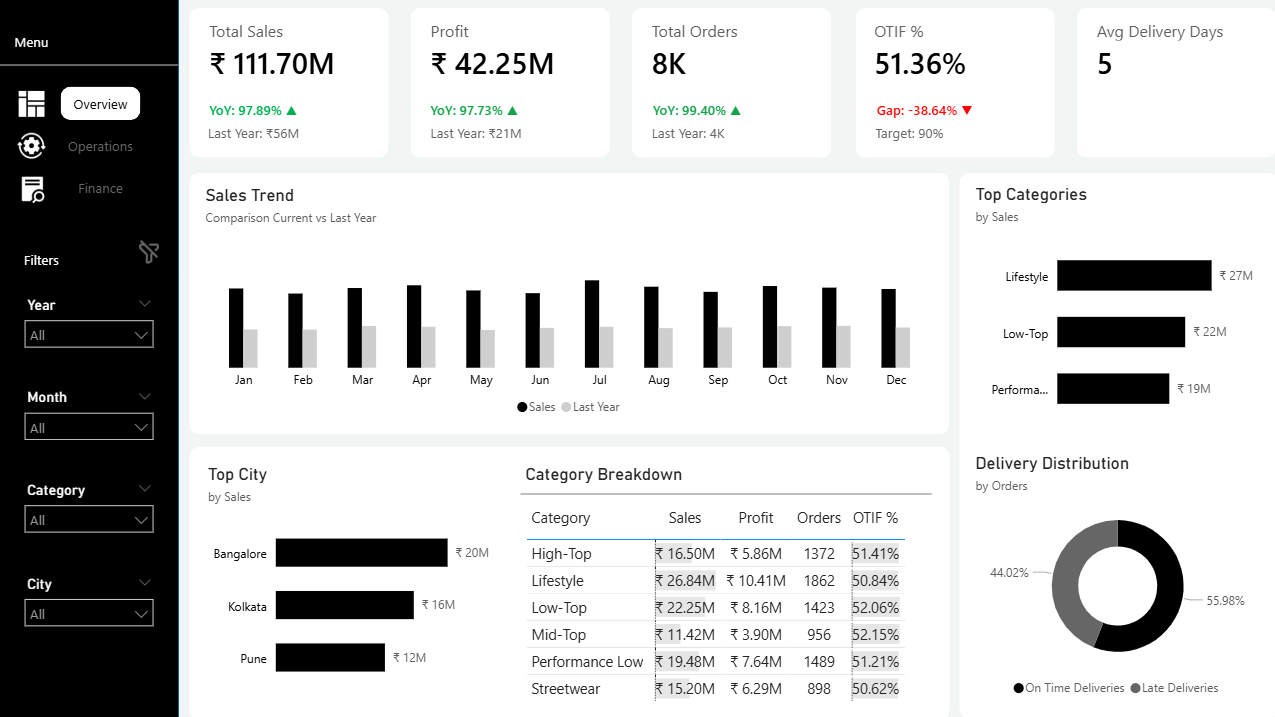

The dashboard page shown, as its layout file describes it:
{"tool":"powerbi","page":{"name":"Overview","canvas":[1280,720],"ordinal":0},"visuals":[{"type":"shape","box":[62.7,82.6,76.9,42.7],"z":0},{"type":"shape","box":[191.2,8.2,199.5,150],"z":1000,"group":"g1"},{"type":"shape","box":[7.2,236.5,51.9,29],"z":1000},{"type":"shape","box":[413,8.2,199.5,150],"z":2000,"group":"g2"},{"type":"shape","box":[62.7,125.3,76.9,42.7],"z":2000},{"type":"shape","box":[190.8,447.2,760.5,273.4],"z":2000,"group":"g7"},{"type":"shape","box":[634.8,8.2,199.5,150],"z":3000,"group":"g3"},{"type":"shape","box":[0,266.6,181,16.9],"z":3000},{"type":"shape","box":[0,0,181,720.2],"z":4000},{"type":"shape","box":[856.8,8.2,199.5,150],"z":4000,"group":"g4"},{"type":"shape","box":[1078.8,8.4,199.5,150],"z":5000,"group":"g5"},{"type":"slicer","fields":{"Values":["Calendar.Year"]},"box":[15.7,292,149.6,67.6],"z":5000},{"type":"cardVisual","fields":{"Data":["Measures Table.Total Sales"]},"box":[191.4,8.7,200,85],"z":6000,"group":"g1"},{"type":"image","box":[18.5,89.7,29.9,29.9],"z":6000},{"type":"shape","box":[961.5,173.7,318.5,546.5],"z":6000,"group":"g8"},{"type":"cardVisual","fields":{"Data":["Measures Table.Sales YoY Text"]},"box":[191.4,93.7,199,31.2],"z":7000,"group":"g1"},{"type":"slicer","fields":{"Values":["Calendar.Month"]},"box":[15.7,384.9,149.6,67.6],"z":7000},{"type":"shape","box":[210.2,124.9,160,23.8],"z":8000,"group":"g1"},{"type":"image","box":[18.5,133.9,29.9,28.5],"z":8000},{"type":"cardVisual","fields":{"Data":["Measures Table.Profit"]},"box":[412.9,8.7,200,85],"z":9000,"group":"g2"},{"type":"slicer","fields":{"Values":["Products.Category"]},"box":[15.7,477.8,149.6,67.6],"z":9000},{"type":"group","id":"g1","title":"Group 1","box":[191.2,8.2,200.2,150],"z":10000},{"type":"cardVisual","fields":{"Data":["Measures Table.Profit YoY Text"]},"box":[412.9,93.7,199,31.2],"z":10000,"group":"g2"},{"type":"shape","box":[432.9,124.9,160,23.8],"z":11000,"group":"g2"},{"type":"slicer","fields":{"Values":["Customers.City"]},"box":[15.7,570.6,149.6,67.6],"z":11000},{"type":"group","id":"g2","title":"Group 2","box":[412.9,8.2,200,150],"z":12000},{"type":"cardVisual","fields":{"Data":["Measures Table.Total Orders"]},"box":[634.4,8.7,200,85],"z":12000,"group":"g3"},{"type":"cardVisual","fields":{"Data":["Measures Table.OTIF %"]},"box":[856.1,8.7,200,85],"z":13000,"group":"g4"},{"type":"clusteredBarChart","title":"Top Categories ","fields":{"Category":["Products.Category"],"Y":["Measures Table.Total Sales"]},"box":[972.6,185.1,294.8,250.6],"z":13000,"group":"g8"},{"type":"image","box":[136.3,241.3,29,26.5],"z":13000},{"type":"group","id":"g3","title":"Group 3","box":[634.4,8.2,200.2,150],"z":14000},{"type":"cardVisual","fields":{"Data":["Measures Table.Avg Delivery Days"]},"box":[1079,8.9,200,85],"z":14000,"group":"g5"},{"type":"clusteredBarChart","title":"Top City ","fields":{"Y":["Measures Table.Total Sales"],"Category":["Customers.City"]},"box":[204.1,465.3,295.6,236.5],"z":14000,"group":"g7"},{"type":"group","id":"g4","title":"Group 4","box":[856.1,8.2,201.2,150],"z":15000},{"type":"cardVisual","fields":{"Data":["Measures Table.Orders YoY Text"]},"box":[635.6,93.7,199,31.2],"z":15000,"group":"g3"},{"type":"tableEx","title":"Category Breakdown","fields":{"Values":["Products.Category","Measures Table.Total Sales","Measures Table.Profit","Measures Table.Total Orders","Measures Table.OTIF %"]},"box":[521.6,465.1,411.4,247.3],"z":15000,"group":"g7"},{"type":"group","id":"g5","title":"Group 5","box":[1078.8,8.4,200.2,150],"z":16000},{"type":"shape","box":[654.4,124.9,160,23.8],"z":16000,"group":"g3"},{"type":"donutChart","title":"Delivery Distribution","fields":{"Y":["Measures Table.On Time Deliveries","Measures Table.Late Deliveries"]},"box":[972.6,454.3,294.8,253.5],"z":16000,"group":"g8"},{"type":"shape","box":[877.3,124.9,160,23.8],"z":17000,"group":"g4"},{"type":"group","id":"g6","title":"Group 6","box":[191.8,173.5,760.1,261.8],"z":17000},{"type":"shape","box":[0,57,180.9,17.1],"z":18000},{"type":"cardVisual","fields":{"Data":["Measures Table.OTIF Gap Text"]},"box":[858.6,93.7,198.8,31.2],"z":18000,"group":"g4"},{"type":"shape","box":[191.8,173.5,760.1,261.8],"z":19000,"group":"g6"},{"type":"image","box":[19.9,176.6,28.5,28.5],"z":19000},{"type":"actionButton","box":[62.7,88.1,80,33.8],"z":20000},{"type":"clusteredColumnChart","title":"Sales Trend","fields":{"Category":["Calendar.Month"],"Y":["Measures Table.Total Sales","Measures Table.Sales LY"]},"box":[202.7,185.6,739.5,240.1],"z":20000,"group":"g6"},{"type":"actionButton","box":[62.7,130.3,80,33.8],"z":21000},{"type":"actionButton","box":[62.7,171.3,80,33.8],"z":22000},{"type":"shape","box":[7.2,27.7,51.9,29],"z":23000},{"type":"group","id":"g7","title":"Group 8","box":[190.8,447.2,760.5,273.4],"z":24000},{"type":"group","id":"g8","title":"Group 9","box":[961.5,173.7,318.5,546.5],"z":25000},{"type":"shape","box":[17.2,246.5,51.9,29],"z":26000}]}

Visuals, with their boxes on the page's 1280x720 design canvas (x1, y1, x2, y2). These are canvas units, not pixel positions in the 1275x717 screenshot, which may show the page scaled, cropped or inside an application window:
shape: BBox(63, 83, 140, 125)
shape: BBox(191, 8, 391, 158)
shape: BBox(7, 236, 59, 266)
shape: BBox(413, 8, 612, 158)
shape: BBox(63, 125, 140, 168)
shape: BBox(191, 447, 951, 721)
shape: BBox(635, 8, 834, 158)
shape: BBox(0, 267, 181, 284)
shape: BBox(0, 0, 181, 720)
shape: BBox(857, 8, 1056, 158)
shape: BBox(1079, 8, 1278, 158)
slicer - Calendar.Year: BBox(16, 292, 165, 360)
cardVisual - Measures Table.Total Sales: BBox(191, 9, 391, 94)
image: BBox(18, 90, 48, 120)
shape: BBox(962, 174, 1280, 720)
cardVisual - Measures Table.Sales YoY Text: BBox(191, 94, 390, 125)
slicer - Calendar.Month: BBox(16, 385, 165, 452)
shape: BBox(210, 125, 370, 149)
image: BBox(18, 134, 48, 162)
cardVisual - Measures Table.Profit: BBox(413, 9, 613, 94)
slicer - Products.Category: BBox(16, 478, 165, 545)
"Group 1" group: BBox(191, 8, 391, 158)
cardVisual - Measures Table.Profit YoY Text: BBox(413, 94, 612, 125)
shape: BBox(433, 125, 593, 149)
slicer - Customers.City: BBox(16, 571, 165, 638)
"Group 2" group: BBox(413, 8, 613, 158)
cardVisual - Measures Table.Total Orders: BBox(634, 9, 834, 94)
cardVisual - Measures Table.OTIF %: BBox(856, 9, 1056, 94)
"Top Categories " clusteredBarChart: BBox(973, 185, 1267, 436)
image: BBox(136, 241, 165, 268)
"Group 3" group: BBox(634, 8, 835, 158)
cardVisual - Measures Table.Avg Delivery Days: BBox(1079, 9, 1279, 94)
"Top City " clusteredBarChart: BBox(204, 465, 500, 702)
"Group 4" group: BBox(856, 8, 1057, 158)
cardVisual - Measures Table.Orders YoY Text: BBox(636, 94, 835, 125)
"Category Breakdown" tableEx: BBox(522, 465, 933, 712)
"Group 5" group: BBox(1079, 8, 1279, 158)
shape: BBox(654, 125, 814, 149)
"Delivery Distribution" donutChart: BBox(973, 454, 1267, 708)
shape: BBox(877, 125, 1037, 149)
"Group 6" group: BBox(192, 174, 952, 435)
shape: BBox(0, 57, 181, 74)
cardVisual - Measures Table.OTIF Gap Text: BBox(859, 94, 1057, 125)
shape: BBox(192, 174, 952, 435)
image: BBox(20, 177, 48, 205)
actionButton: BBox(63, 88, 143, 122)
"Sales Trend" clusteredColumnChart: BBox(203, 186, 942, 426)
actionButton: BBox(63, 130, 143, 164)
actionButton: BBox(63, 171, 143, 205)
shape: BBox(7, 28, 59, 57)
"Group 8" group: BBox(191, 447, 951, 721)
"Group 9" group: BBox(962, 174, 1280, 720)
shape: BBox(17, 246, 69, 276)
